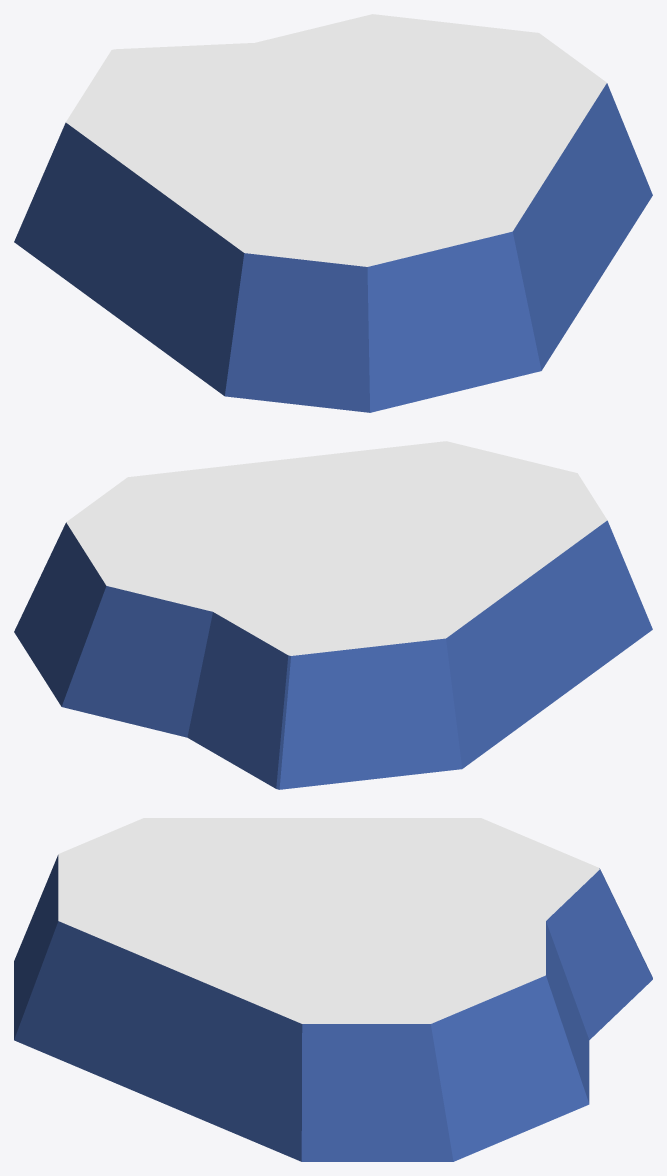
Rendered from Rock025.fbx.
3 views of the same model, one above another, from view 1: azimuth 30°, elevation 25°; view 2: azimuth 150°, elevation 25°; view 3: azimuth 270°, elevation 25° (orthographic). The views are drawn at different scales.
Parts seen in each view (by area): view 1: Rock025; view 2: Rock025; view 3: Rock025.
Boxes of the visible parts, x1,y1,x2,y2 form: Rock025: [14, 14, 652, 412]; Rock025: [14, 441, 652, 789]; Rock025: [14, 818, 652, 1161].
Bounding box in the file's own units: 80.58 × 18.05 × 89.48.
